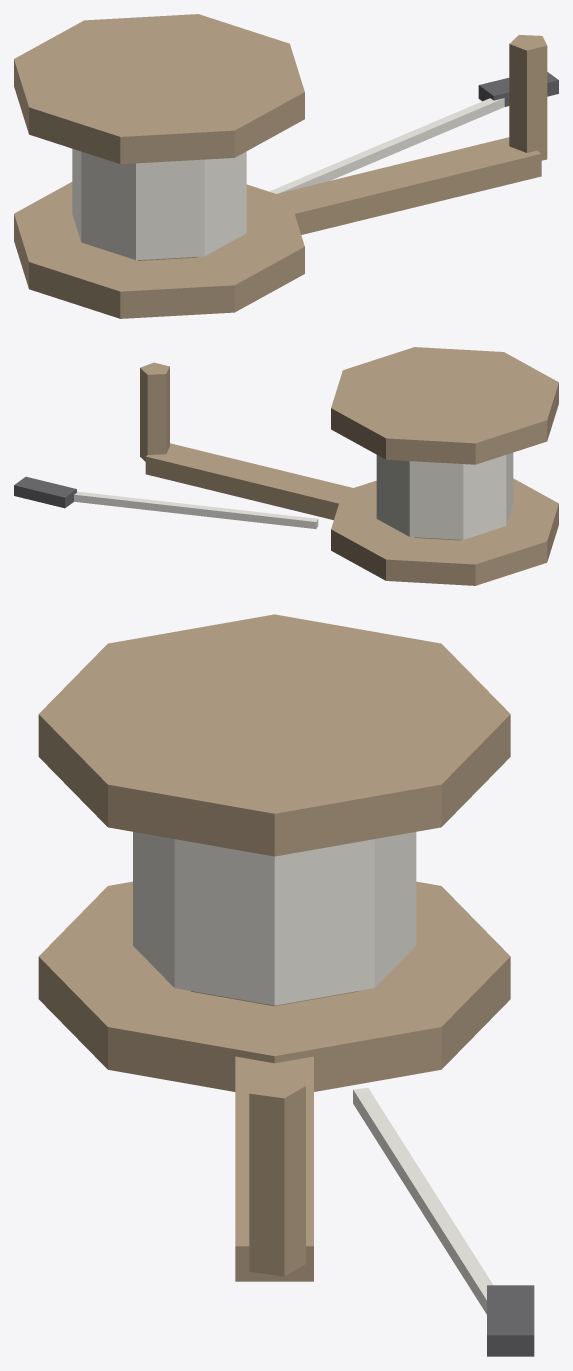
The model's file is prop-chalk-line-reel.fbx.
The picture shows the model from 3 angles, top to bottom: view 1: azimuth 30°, elevation 25°; view 2: azimuth 150°, elevation 25°; view 3: azimuth 270°, elevation 25°; orthographic projection. The views are drawn at different scales.
Visible parts, largest first — view 1: prop-chalk-line-reel; view 2: prop-chalk-line-reel; view 3: prop-chalk-line-reel.
Part boxes in pixels (x1,y1,x2,y2): prop-chalk-line-reel: (14,14,558,318); prop-chalk-line-reel: (14,347,558,585); prop-chalk-line-reel: (38,614,534,1356).
Size of the model in its own units: 27.5 by 8 by 12.6.
